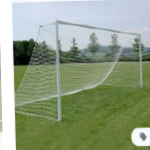goals: (19, 17, 146, 124)
